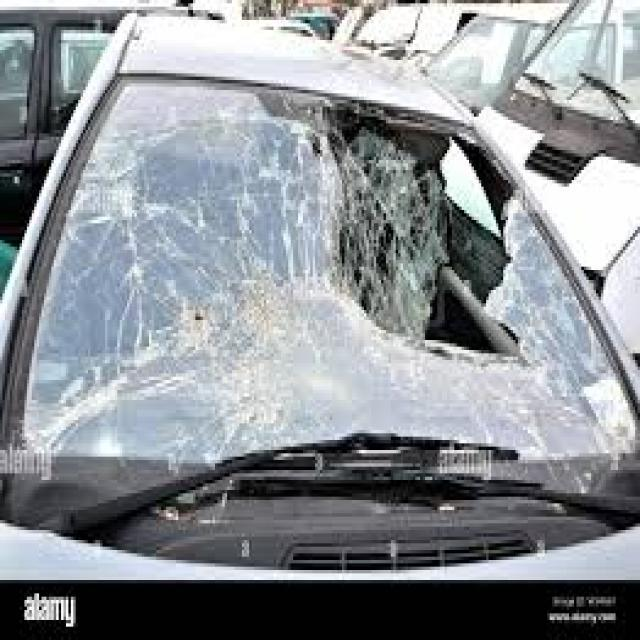damaged-windscreen: (5, 68, 640, 499)
